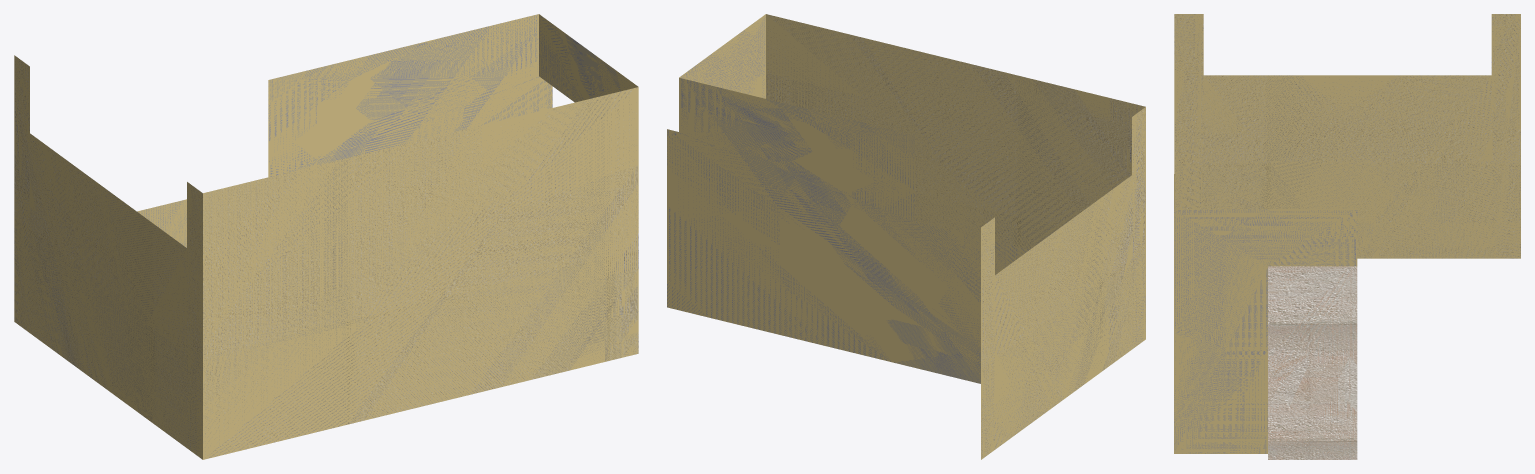
Rendered from CUA045.obj.
The picture shows the model from 3 angles, left to right: view 1: azimuth 30°, elevation 25°; view 2: azimuth 150°, elevation 25°; view 3: azimuth 270°, elevation 25°; orthographic projection. The views are drawn at different scales.
Visible parts, largest first — view 1: Mesh1 CUA045 Model; view 2: Mesh1 CUA045 Model; view 3: Mesh1 CUA045 Model.
Part boxes in pixels (x1,y1,x2,y2): Mesh1 CUA045 Model: (14, 14, 638, 459); Mesh1 CUA045 Model: (667, 14, 1145, 459); Mesh1 CUA045 Model: (1174, 14, 1520, 459).
Bounding box in the file's own units: 5.29 × 3 × 3.85.
Materials: 4 (2 with a texture image).
